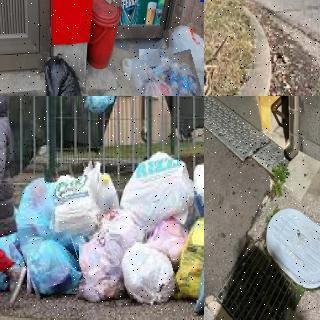Garbage: (121, 154, 193, 223), (46, 163, 101, 239), (24, 233, 83, 297), (120, 241, 178, 305), (133, 45, 201, 96), (18, 177, 60, 248), (167, 21, 204, 96), (40, 53, 86, 96)
